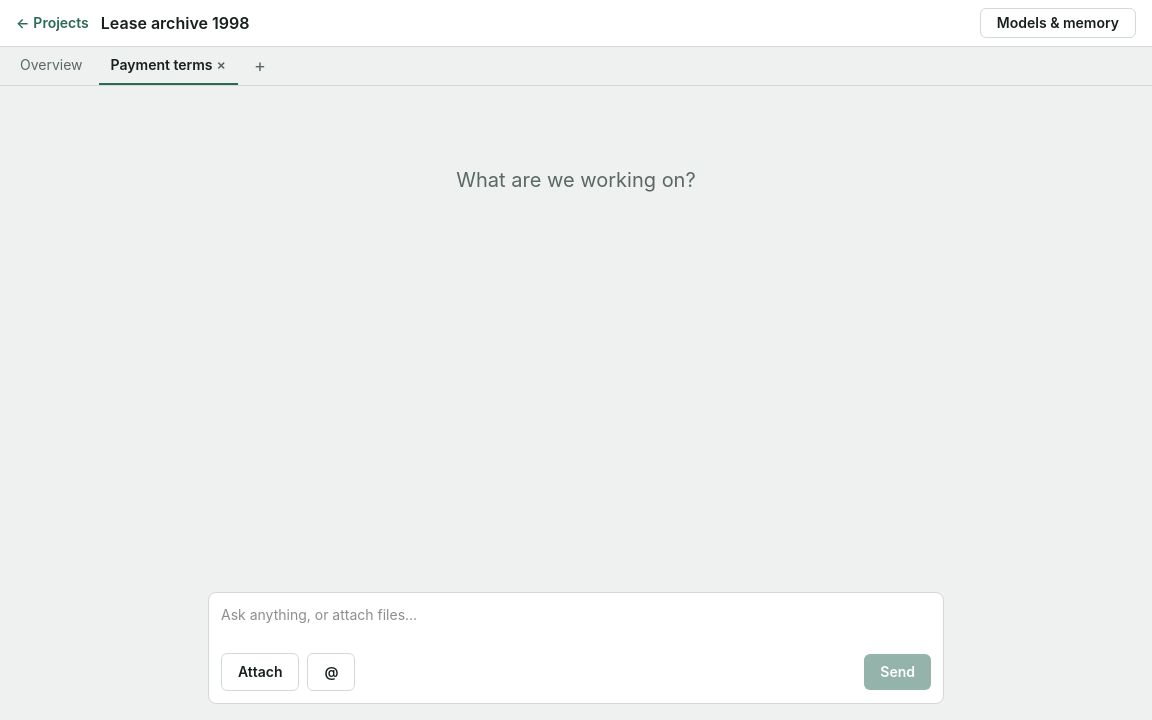
Test: The header › goes back to Projects inside the app, without reloading it
Click the link "Projects" at x=52, y=23, box [16,13,89,33]
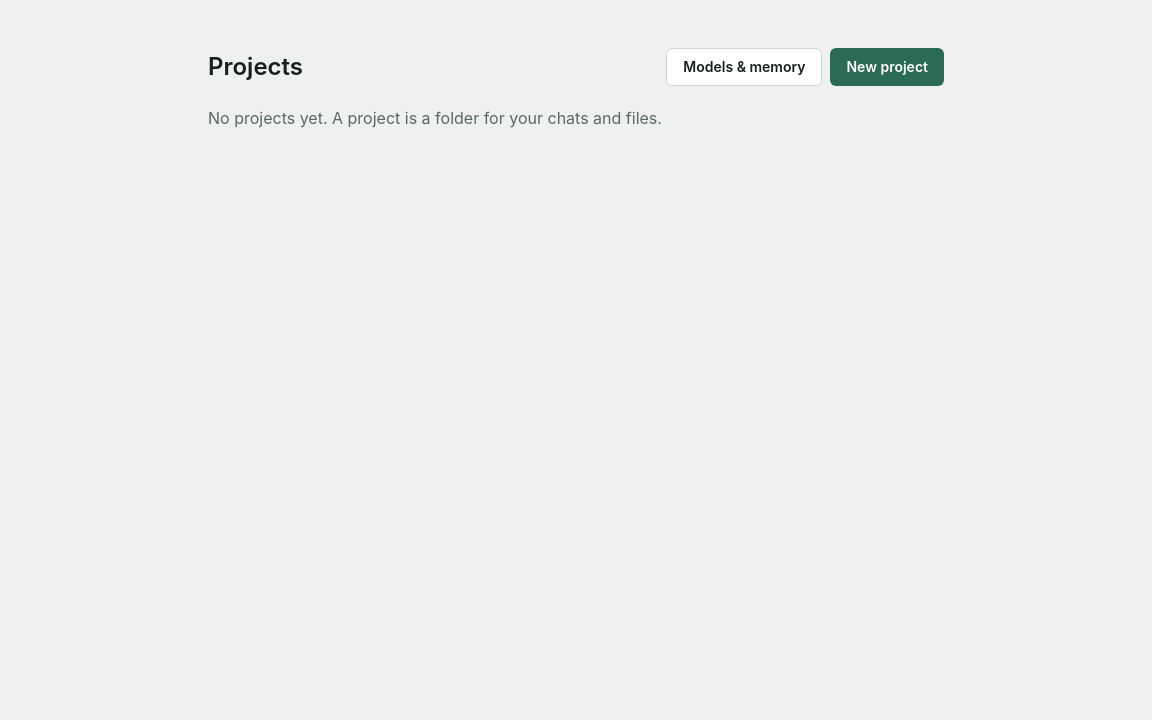
Now the heading "Projects" is shown, box [208,51,303,83]
